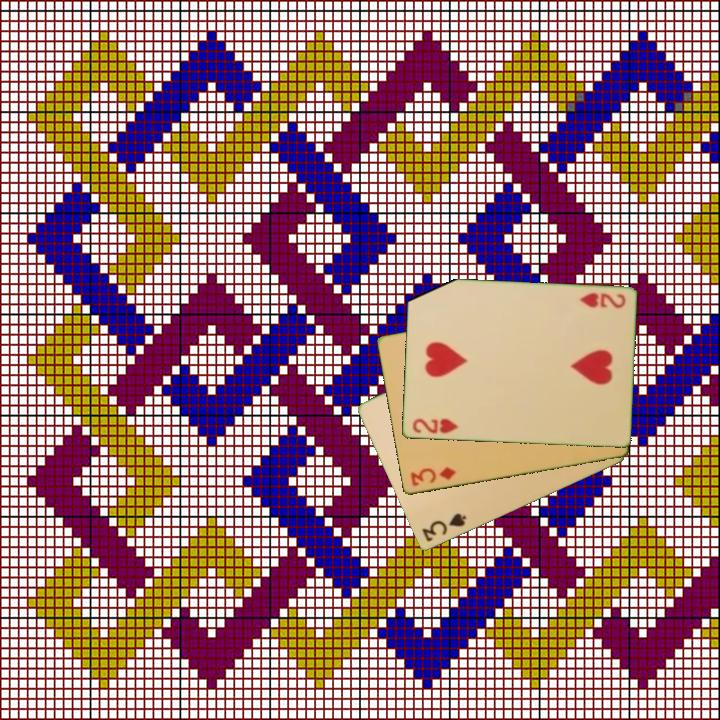2h: (576, 289, 628, 311), (409, 415, 460, 437)
3d: (407, 464, 459, 489)
3s: (418, 510, 469, 545)
